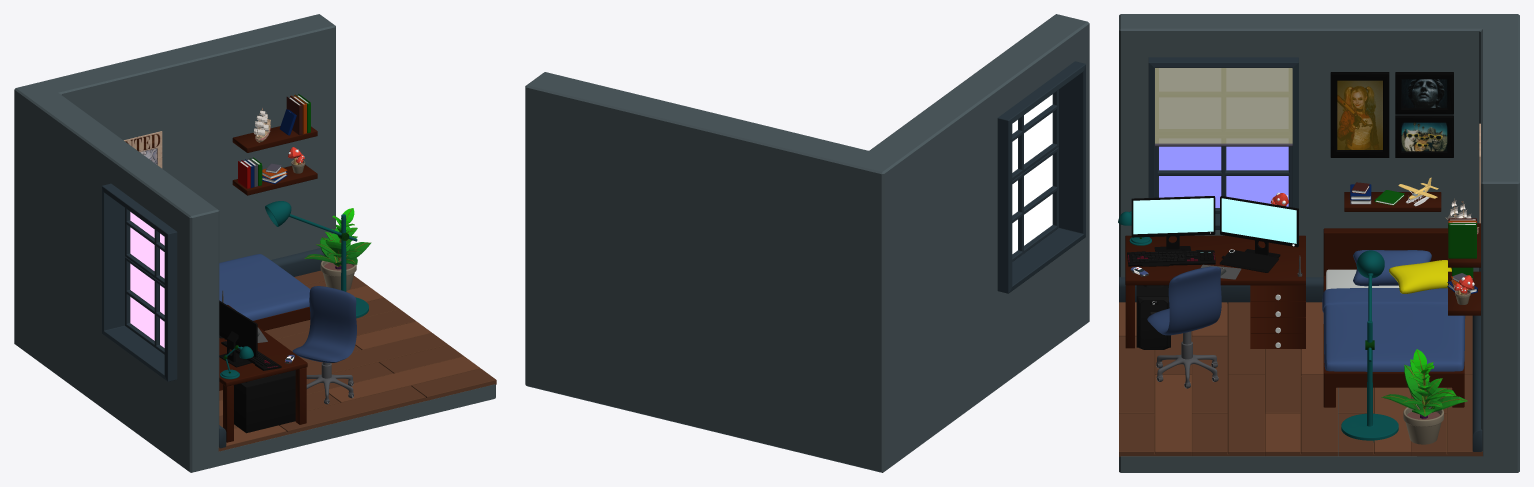
Rendered from MyRoom.compressed.glb.
3 renders of one model, left to right at view 1: azimuth 30°, elevation 25°; view 2: azimuth 150°, elevation 25°; view 3: azimuth 270°, elevation 25°, orthographic. The views are drawn at different scales.
Visible parts, largest first — view 1: Body, BedFrame, comp.002, Sheet, Vert, TopWindow, Medium Plant, Cylinder.020, Poster, DeskLamp, Circle.002, Cube.001; view 2: Body, TopWindow; view 3: Body, BedFrame, Sheet, comp.002, WindowCover, Fig, TopWindow, Vert, Medium Plant, DeskLamp, Cylinder.020, Pillow.001 (+7 smaller).
Part boxes in pixels (bbox=[...]): Body: bbox=[14, 14, 496, 472]; BedFrame: bbox=[219, 126, 317, 442]; comp.002: bbox=[219, 300, 295, 433]; Sheet: bbox=[219, 254, 310, 320]; Vert: bbox=[292, 286, 356, 404]; TopWindow: bbox=[130, 212, 164, 347]; Medium Plant: bbox=[304, 208, 371, 267]; Cylinder.020: bbox=[288, 147, 356, 290]; Poster: bbox=[124, 131, 162, 168]; DeskLamp: bbox=[220, 214, 368, 379]; Circle.002: bbox=[265, 201, 357, 241]; Cube.001: bbox=[242, 109, 296, 187]; Body: bbox=[525, 14, 1089, 472]; TopWindow: bbox=[1012, 94, 1052, 253]; Body: bbox=[1119, 14, 1519, 472]; BedFrame: bbox=[1125, 192, 1480, 407]; Sheet: bbox=[1322, 250, 1465, 371]; comp.002: bbox=[1127, 196, 1298, 349]; WindowCover: bbox=[1155, 68, 1292, 143]; Fig: bbox=[1330, 72, 1453, 157]; TopWindow: bbox=[1159, 146, 1288, 207]; Vert: bbox=[1147, 266, 1221, 388]; Medium Plant: bbox=[1381, 349, 1467, 416]; DeskLamp: bbox=[1129, 237, 1398, 442]; Cylinder.020: bbox=[1270, 192, 1474, 444]; Pillow.001: bbox=[1389, 260, 1451, 293].
Bounding box in the file's own units: 7.57 × 5.69 × 7.12.
50 materials, 7 textured.
